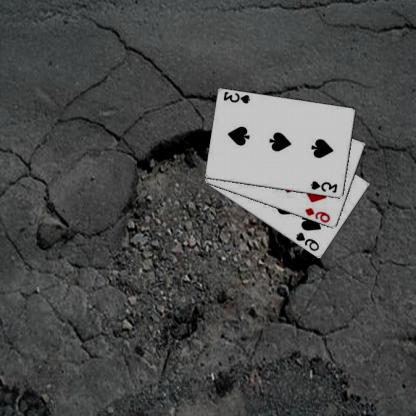3S: (223, 89, 253, 105), (311, 178, 340, 194)
9D: (304, 206, 334, 224)
9S: (295, 230, 322, 252)
